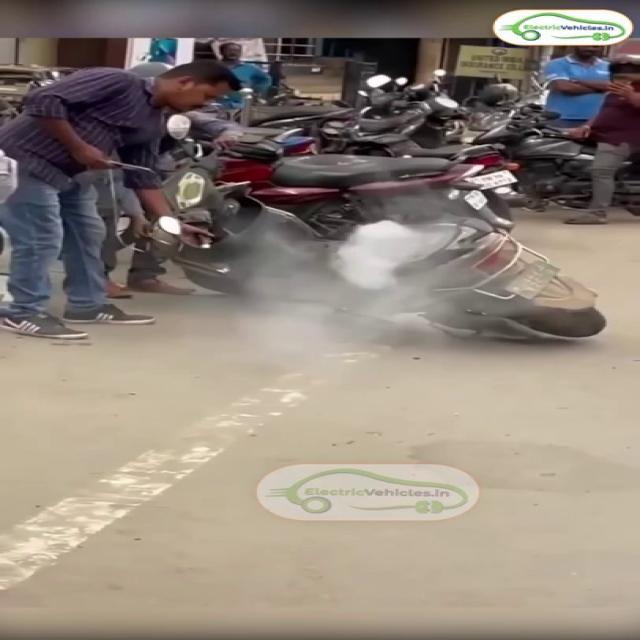Smoke: (305, 210, 455, 280)
